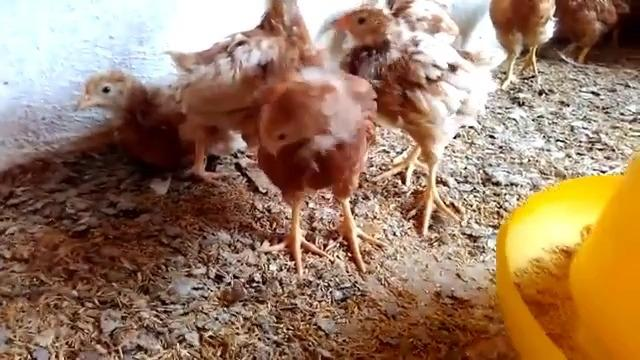Normal: (337, 8, 487, 222)
